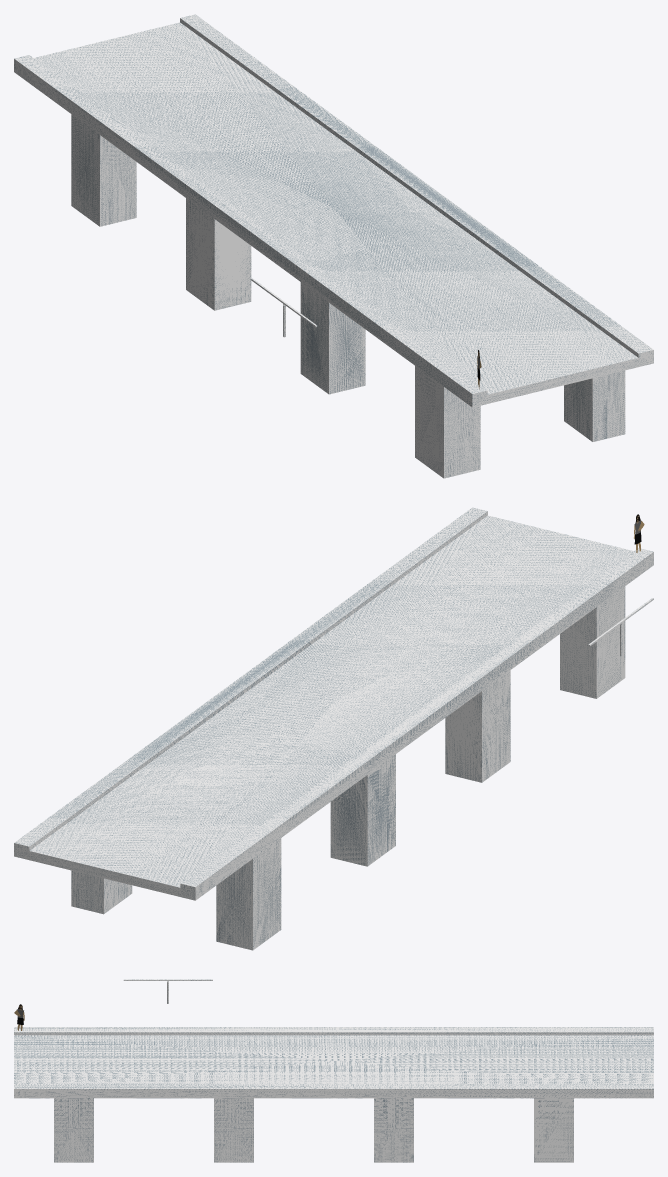
File: Bridge standard with rails.fbx
3 renders of one model, top to bottom at view 1: azimuth 30°, elevation 25°; view 2: azimuth 150°, elevation 25°; view 3: azimuth 270°, elevation 25°, orthographic. The views are drawn at different scales.
Parts seen in each view (by area): view 1: Model; view 2: Model; view 3: Model.
Part boxes in pixels (<box>): Model: <box>14,14,653,478</box>; Model: <box>14,507,653,950</box>; Model: <box>14,1027,653,1162</box>.
Size of the model in its own units: 10.89 by 5.73 by 33.2.
